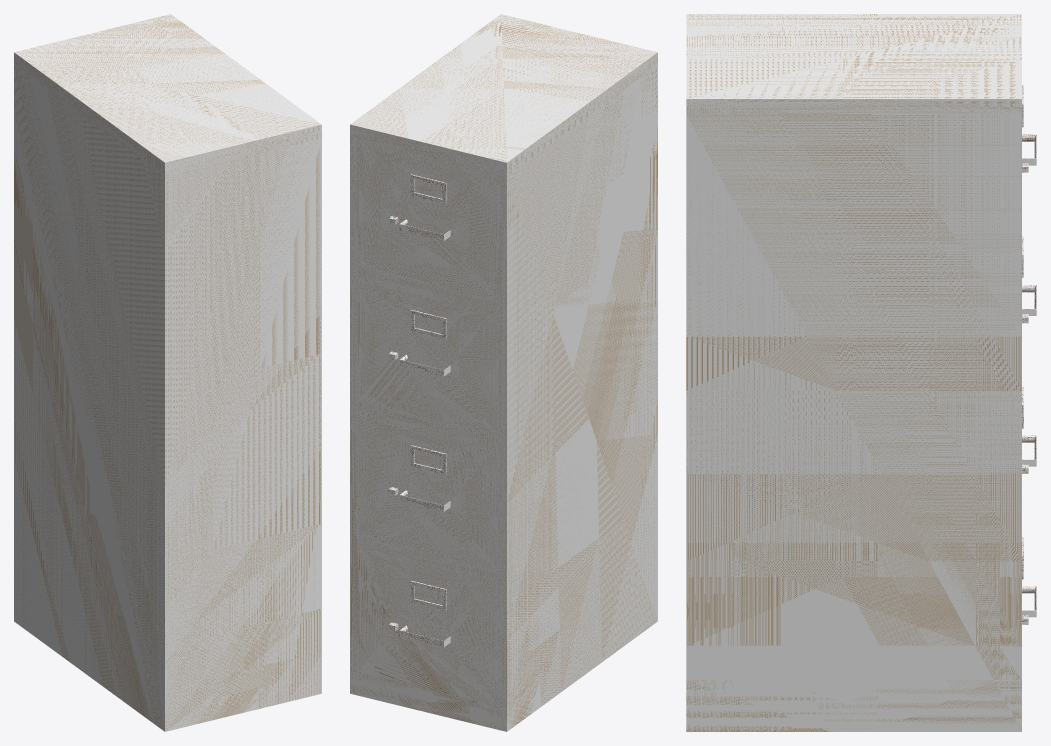
3 renders of one model, left to right at view 1: azimuth 30°, elevation 25°; view 2: azimuth 150°, elevation 25°; view 3: azimuth 270°, elevation 25°, orthographic. The views are drawn at different scales.
Parts seen in each view (by area): view 1: mesh3_mesh3-geometry; view 2: mesh3_mesh3-geometry, mesh1_mesh1-geometry; view 3: mesh3_mesh3-geometry, mesh1_mesh1-geometry.
Part boxes in pixels (box(x1,y1,x2,y2)): mesh3_mesh3-geometry: box(14, 14, 321, 731); mesh3_mesh3-geometry: box(350, 14, 657, 731); mesh1_mesh1-geometry: box(359, 141, 497, 705); mesh3_mesh3-geometry: box(686, 14, 1021, 731); mesh1_mesh1-geometry: box(1022, 85, 1036, 624).
Size of the model in its own units: 0.2496 by 0.8653 by 0.4342.
